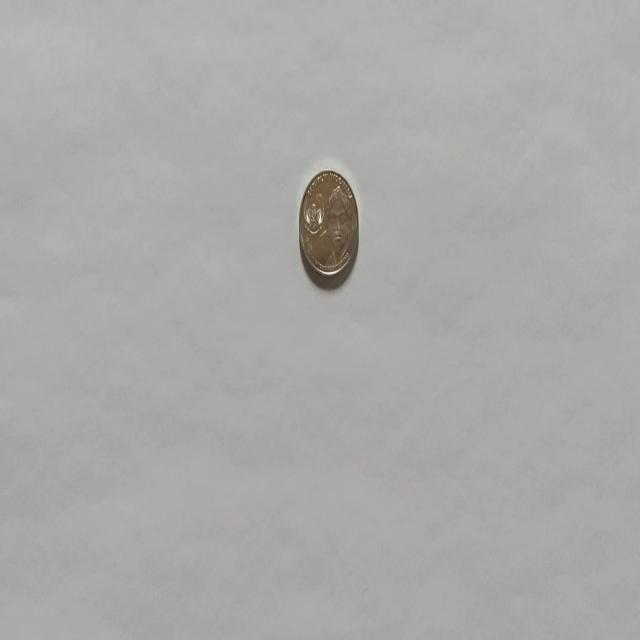dua ratus rupiah: (297, 168, 359, 279)
